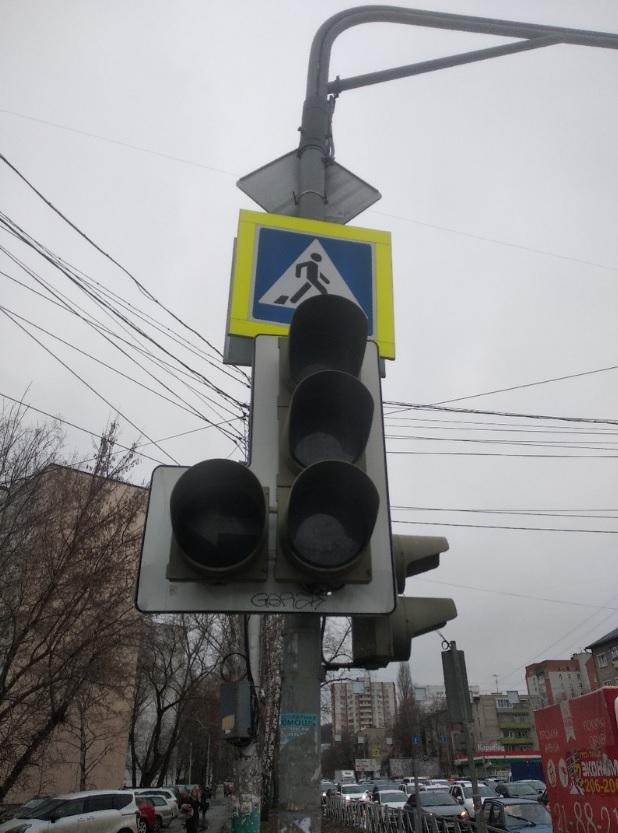obstructed_road_sign: (226, 210, 393, 359)
off traffic light: (135, 293, 396, 617), (350, 533, 460, 671)
